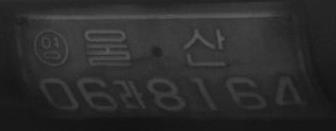0: (37, 76, 79, 112)
1: (187, 76, 222, 110)
4: (274, 74, 309, 113)
6: (223, 75, 267, 111), (80, 76, 117, 112)
8: (149, 77, 187, 111)
라: (117, 77, 148, 110)
영: (32, 28, 69, 68)
울산_D: (83, 27, 227, 67)
